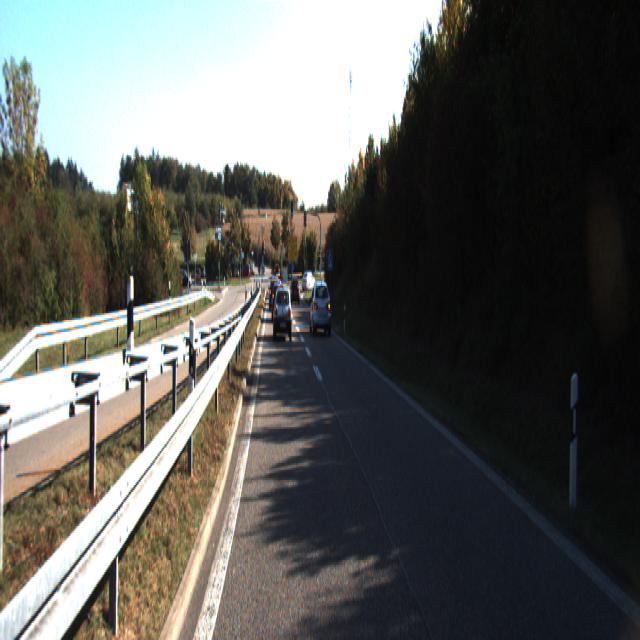Car: (309, 278, 331, 334), (273, 286, 292, 340), (272, 284, 286, 324), (289, 278, 300, 306)
